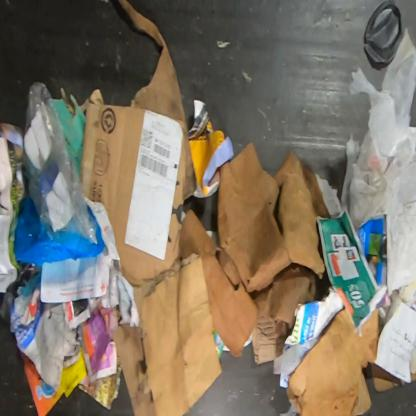cardboard: (79, 0, 199, 286), (180, 140, 331, 358), (112, 252, 223, 416), (285, 307, 380, 415), (252, 262, 317, 366), (53, 87, 85, 181), (369, 362, 407, 392), (410, 373, 415, 383)
rigid_plastic: (363, 0, 405, 65)
soft_plastic: (340, 27, 415, 278), (21, 80, 99, 246), (13, 194, 106, 267)
